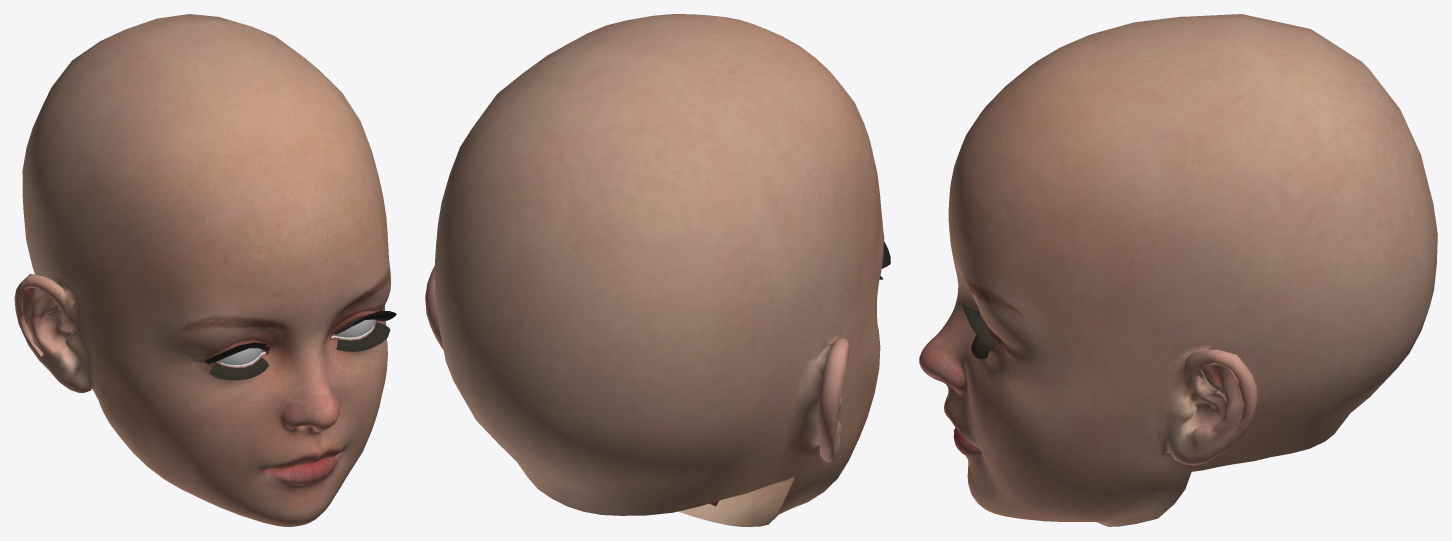
File: Child.obj
3 views of the same model, side by side, from view 1: azimuth 30°, elevation 25°; view 2: azimuth 150°, elevation 25°; view 3: azimuth 270°, elevation 25° (orthographic). The views are drawn at different scales.
Parts seen in each view (by area): view 1: head, rEye; view 2: head; view 3: head.
Part boxes in pixels (x1,y1,x2,y2): head: [14, 14, 396, 526]; rEye: [217, 348, 261, 364]; head: [425, 14, 890, 526]; head: [919, 14, 1437, 526].
Bounding box in the file's own units: 18.2 × 21.84 × 21.17.
